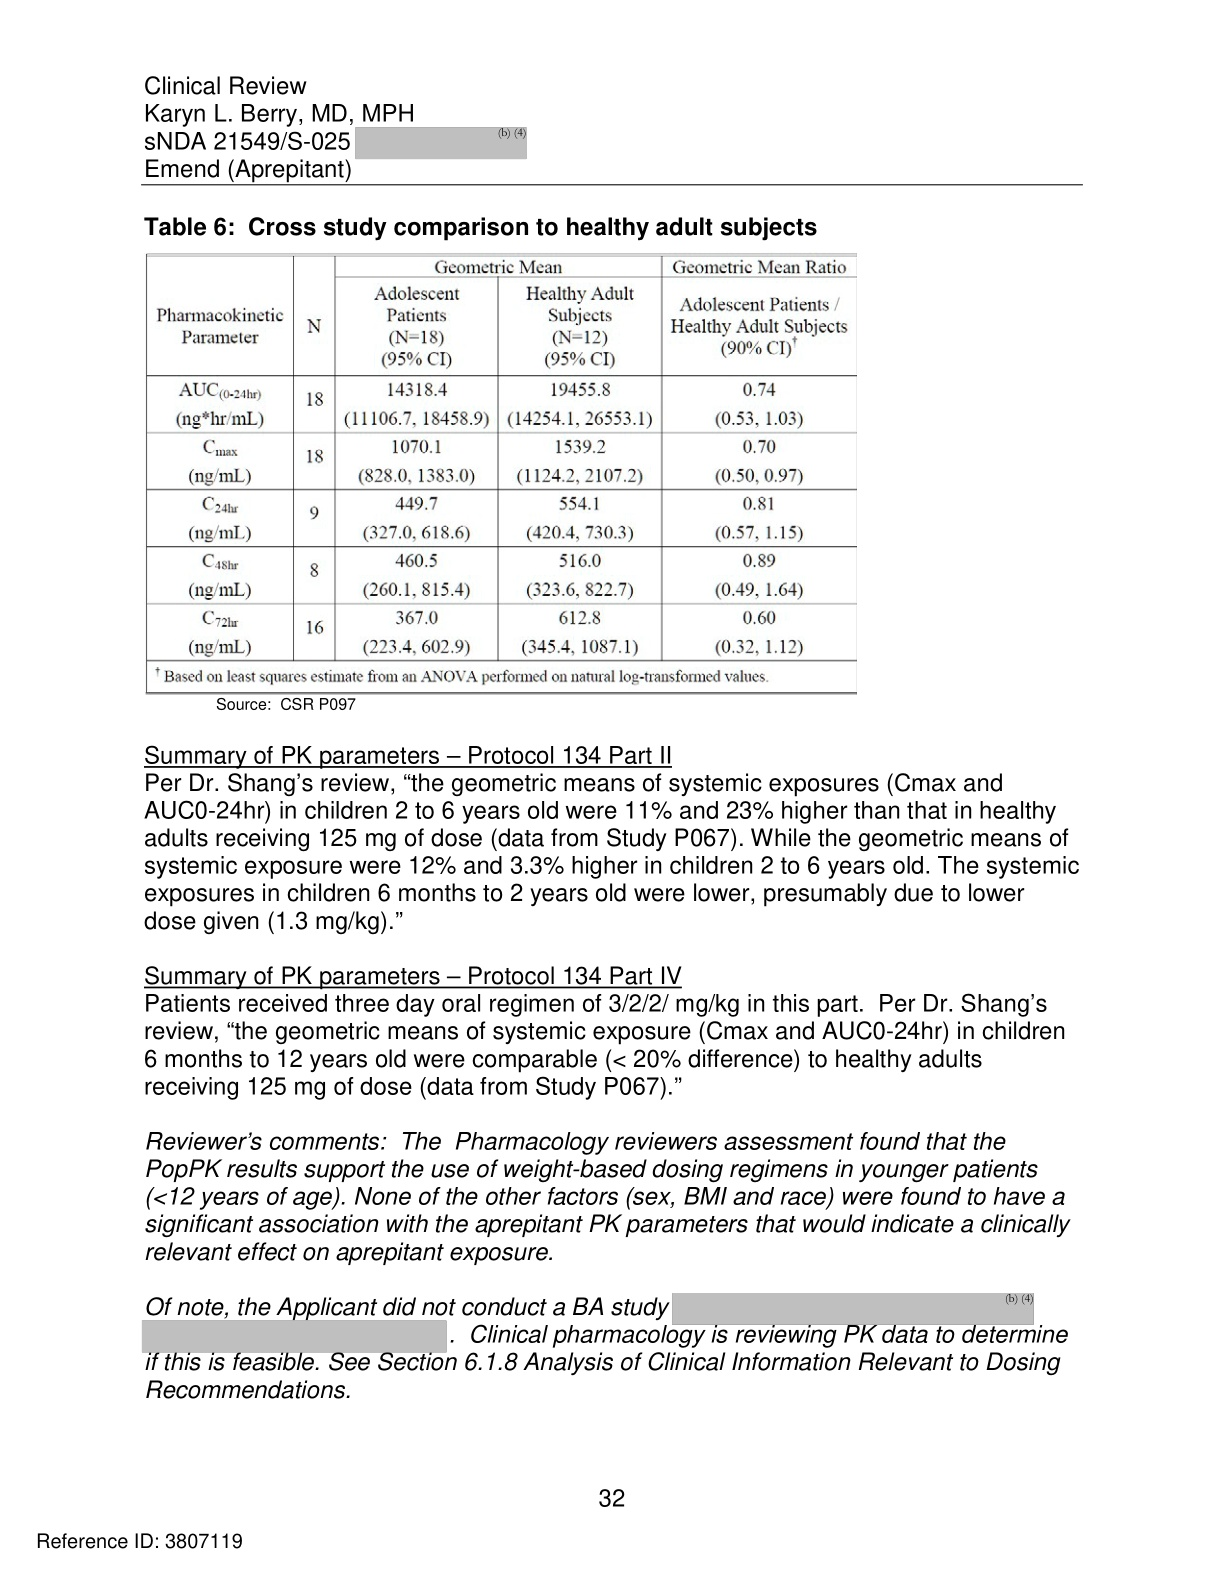merged_cells: (147, 253, 858, 696)
